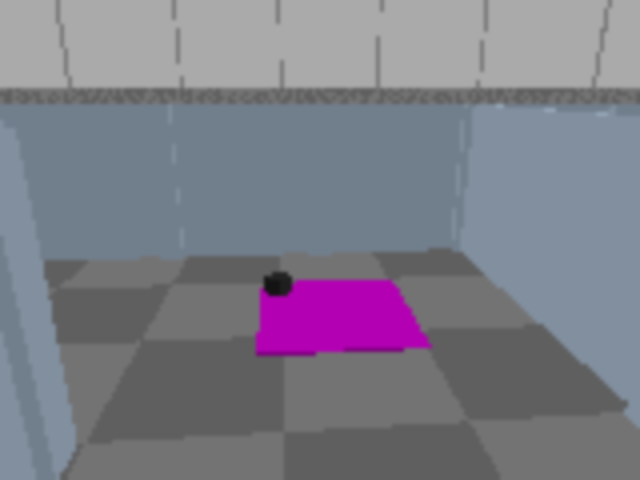goal_zone: (256, 279, 432, 357)
puck: (265, 271, 293, 300)
